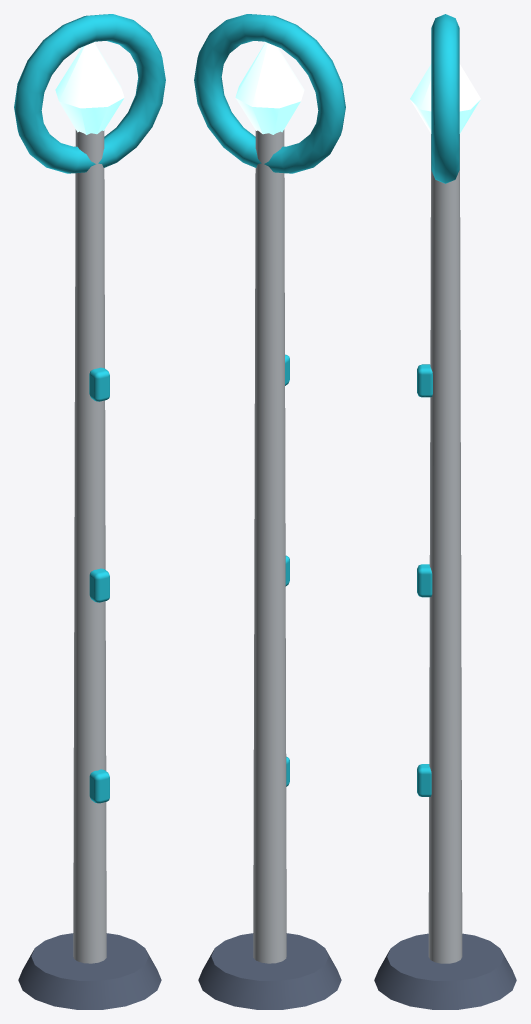
Rendered from hero-shooter-harbour-payload-item-healing-staff-860296c3__27669.glb.
3 renders of one model, left to right at view 1: azimuth 30°, elevation 25°; view 2: azimuth 150°, elevation 25°; view 3: azimuth 270°, elevation 25°, orthographic.
Parts seen in each view (by area): view 1: item-healing-staff, crystal; view 2: item-healing-staff, crystal; view 3: item-healing-staff, crystal.
Part boxes in pixels (x1,y1,x2,y2): item-healing-staff: (14,14,165,1009); crystal: (55,42,124,134); item-healing-staff: (194,14,345,1009); crystal: (235,42,304,134); item-healing-staff: (374,14,516,1009); crystal: (410,64,480,133).
Size of the model in its own units: 0.264 by 1.63 by 0.22.
